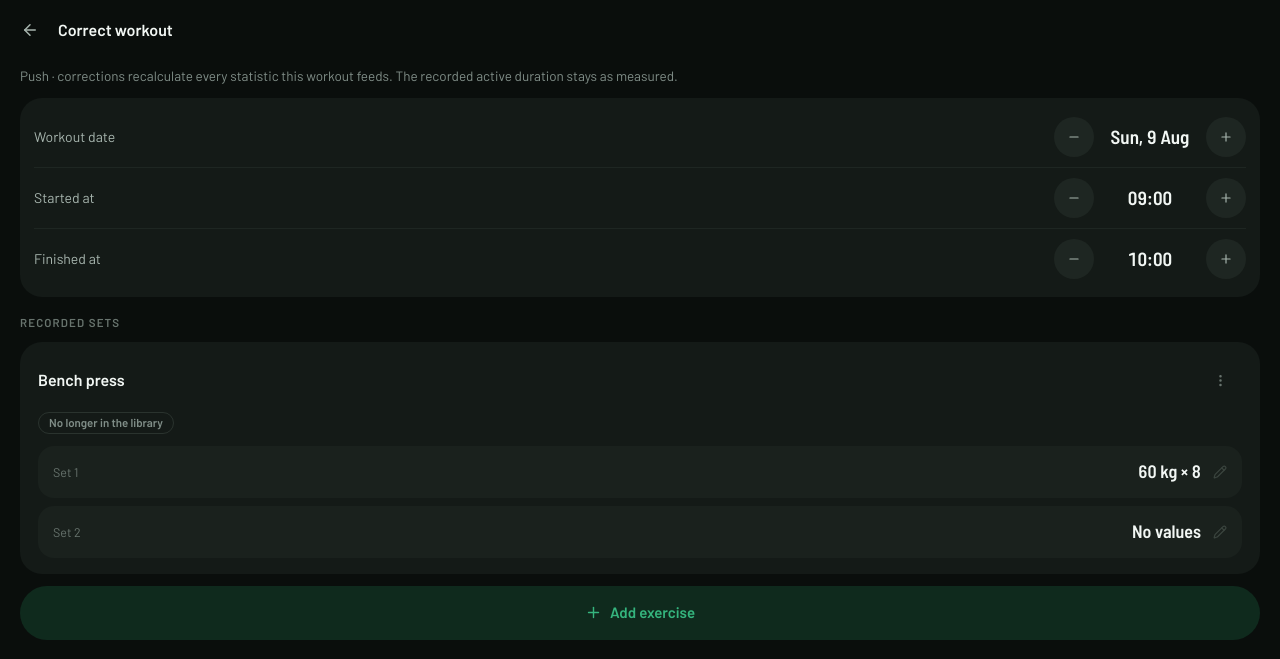
Test: workout History correction › reports unsaved changes only after the draft differs
Expected: the text "Unsaved" is not shown
Click the button named "Start five minutes earlier" at (1074, 198), box [1054, 178, 1094, 218]
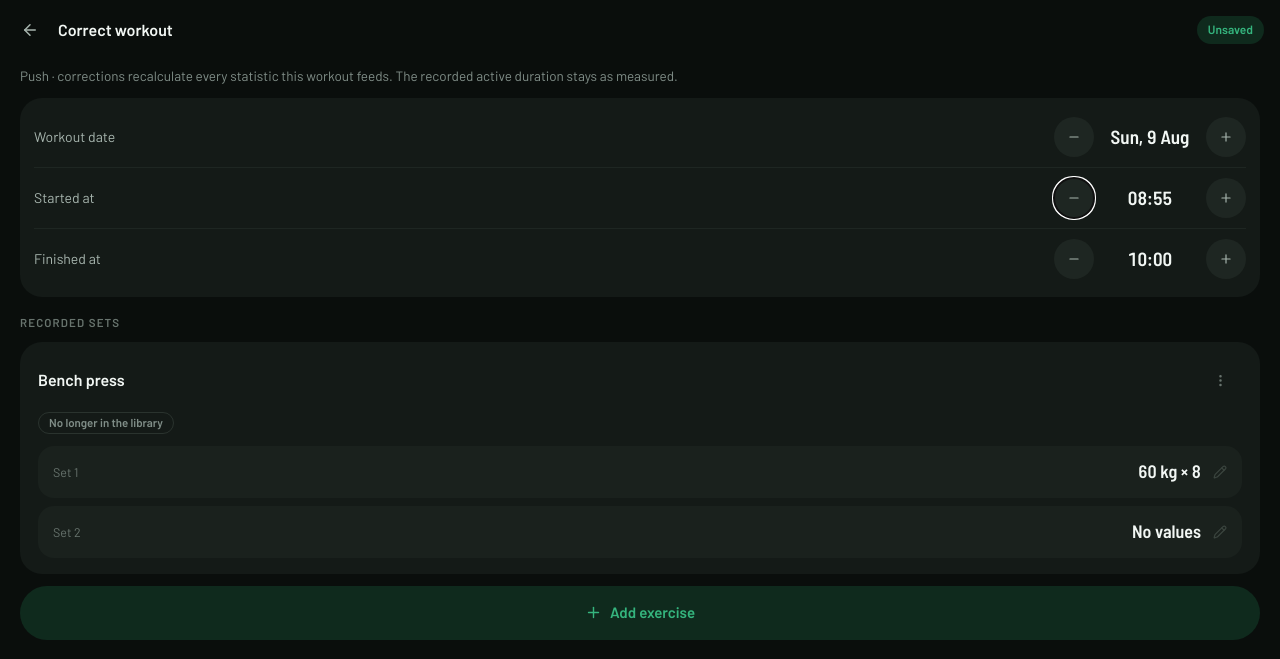
Now the text "Unsaved" is shown, box [1197, 16, 1264, 44]
Now the text "08:55" is shown, box [1128, 186, 1172, 209]
Click the button named "Start five minutes later" at (1226, 198), box [1206, 178, 1246, 218]
(page scrolled)
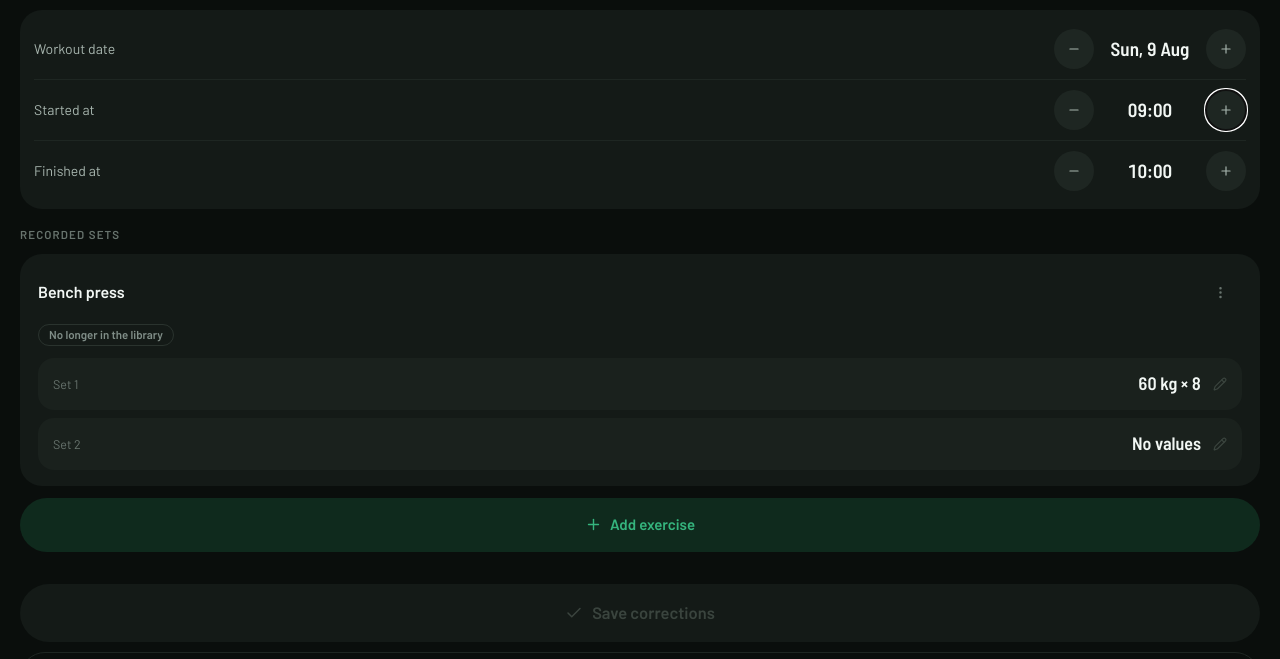
Now the text "Unsaved" is gone
